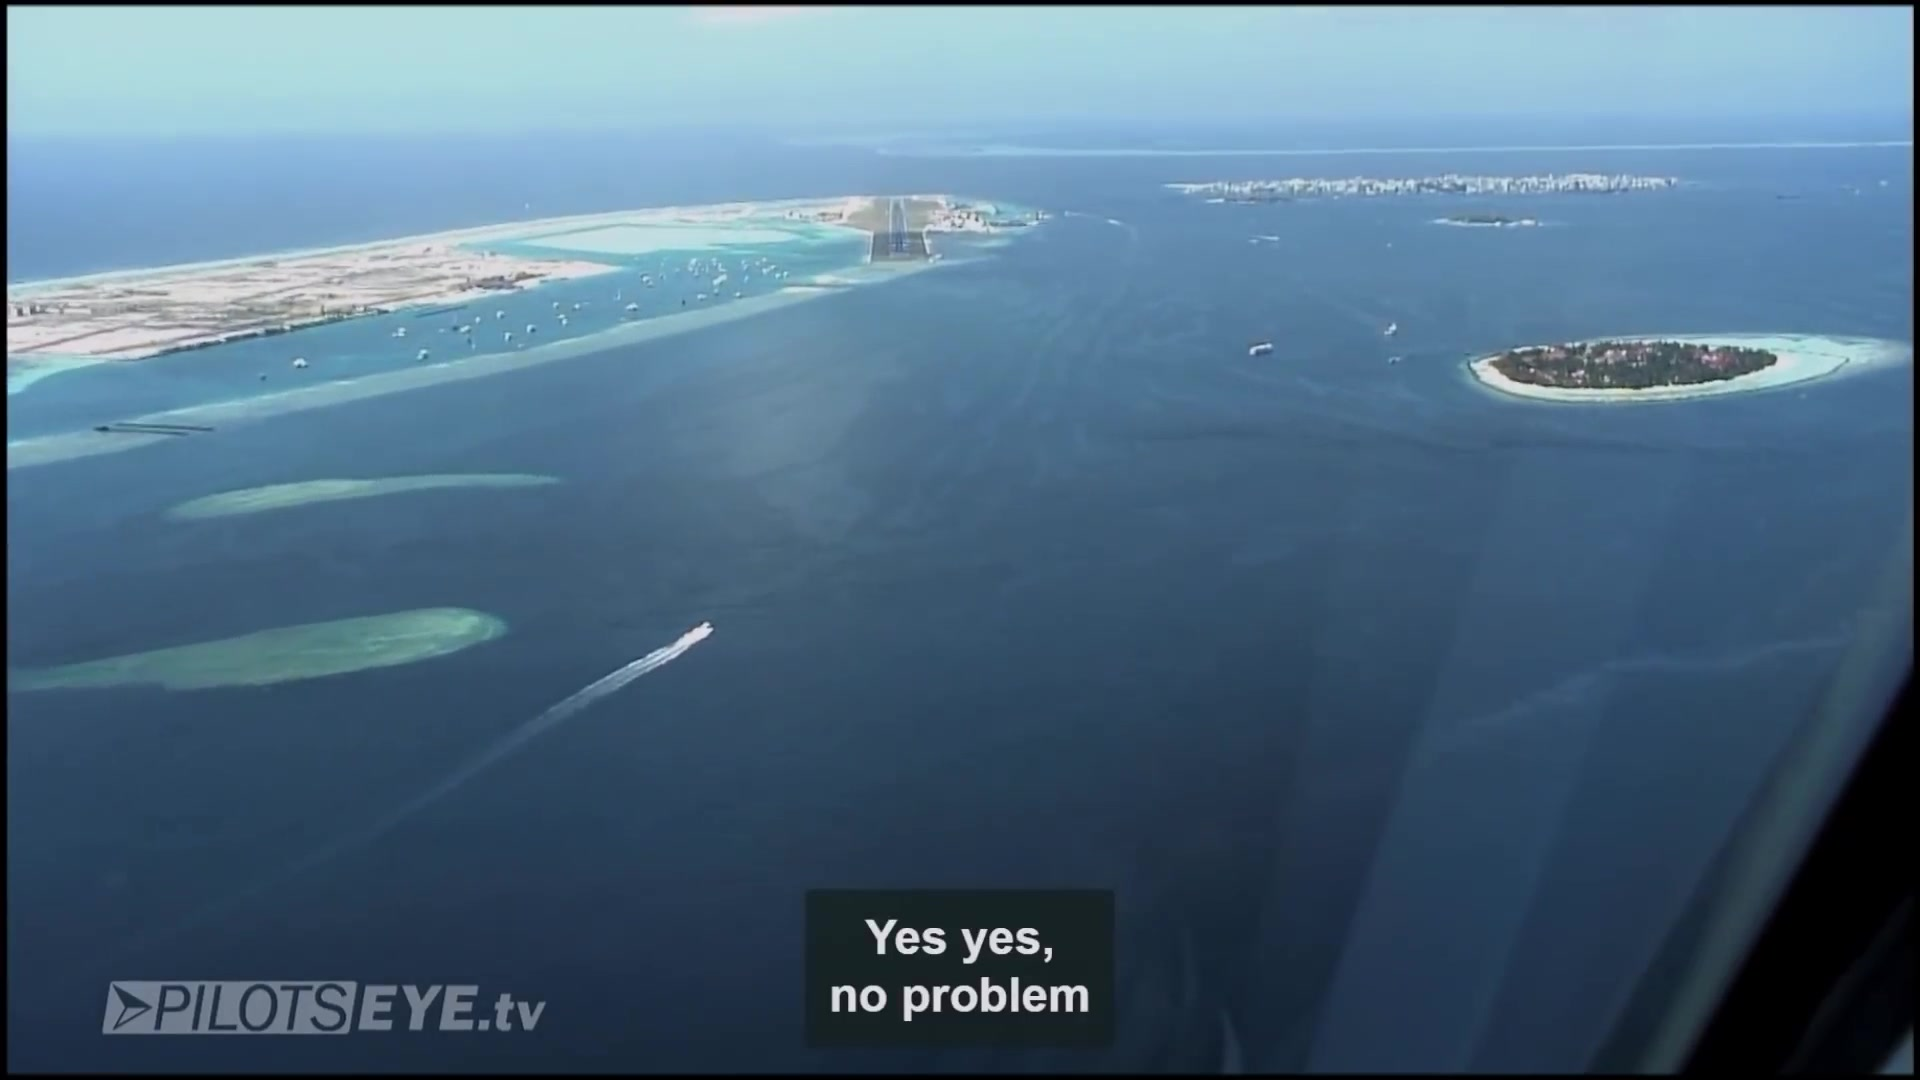runway: (886, 196, 911, 260)
